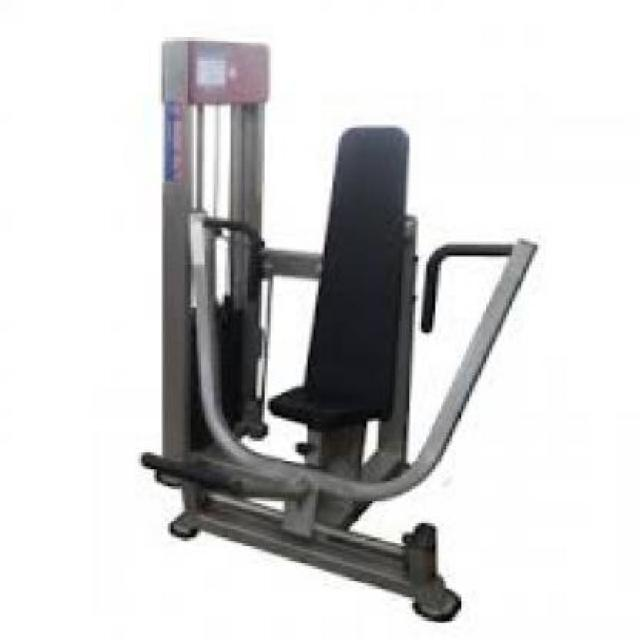Chest Press machine: (117, 29, 545, 626)
